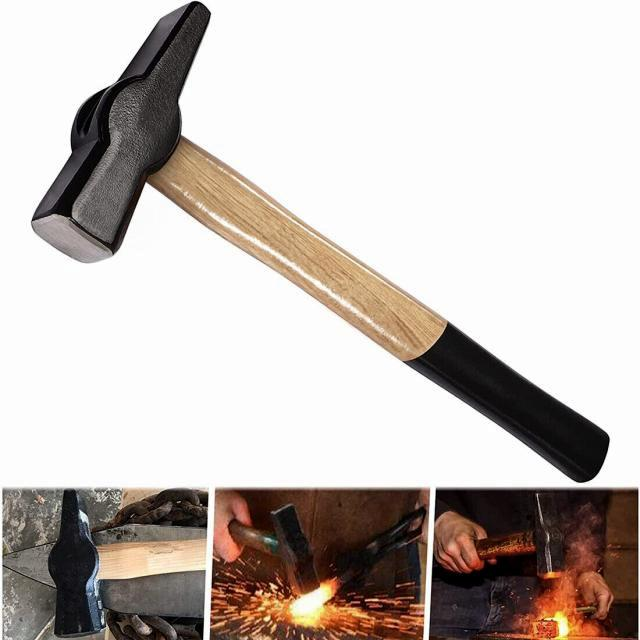hammer: (21, 0, 621, 483), (40, 491, 204, 637), (460, 491, 578, 598), (221, 512, 331, 598)
